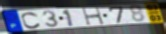1: (62, 8, 77, 27)
3: (42, 10, 60, 28)
7: (107, 5, 125, 24)
8: (129, 4, 147, 23)
C: (20, 11, 42, 30)
H: (81, 6, 107, 27)
